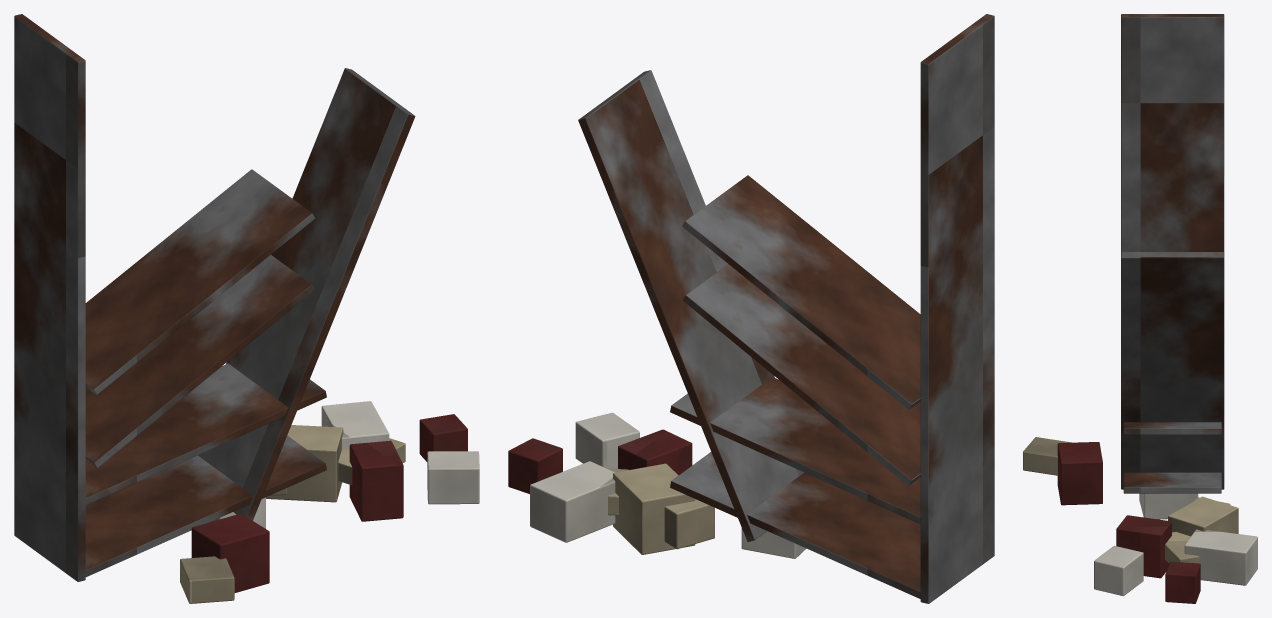
Rendered from BR07_collapsed_shelf_v2.glb.
3 renders of one model, left to right at view 1: azimuth 30°, elevation 25°; view 2: azimuth 150°, elevation 25°; view 3: azimuth 270°, elevation 25°, orthographic. The views are drawn at different scales.
Parts seen in each view (by area): view 1: BR07_collapsed_shelf_v2; view 2: BR07_collapsed_shelf_v2; view 3: BR07_collapsed_shelf_v2.
Boxes of the visible parts, x1,y1,x2,y2 form: BR07_collapsed_shelf_v2: [14, 14, 479, 603]; BR07_collapsed_shelf_v2: [508, 14, 994, 603]; BR07_collapsed_shelf_v2: [1023, 14, 1257, 603].
Size of the model in its own units: 1.49 by 1.8 by 0.8883.
4 materials, 4 textured.
